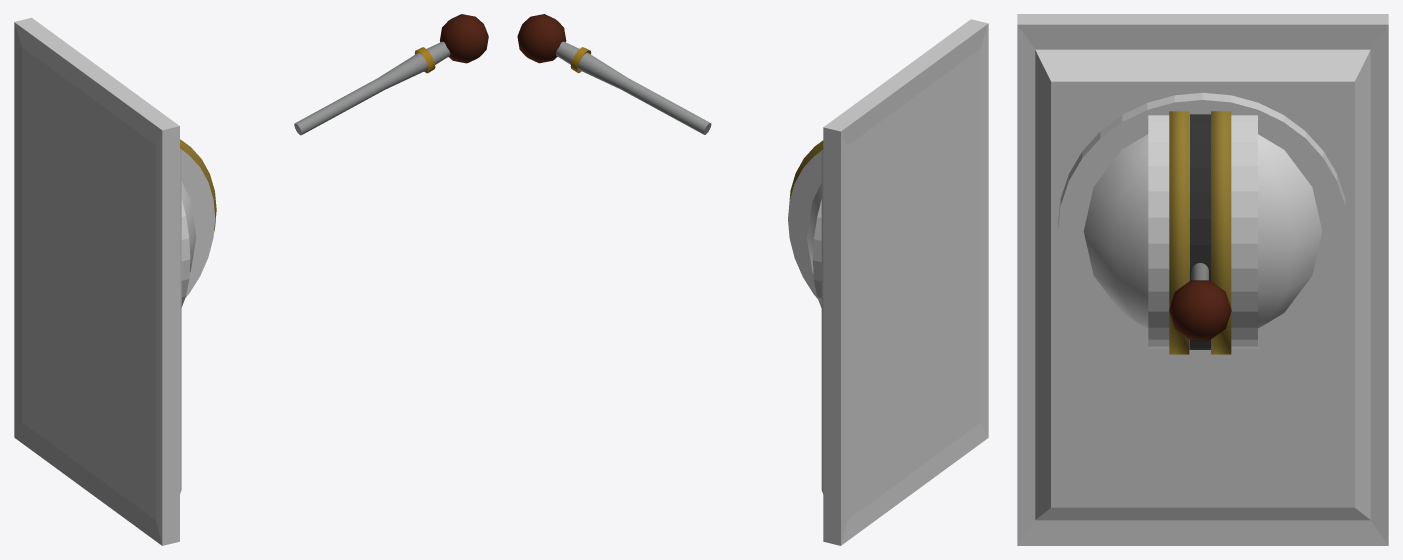
File: elevatorLeverAndWallMountFixed2.fbx
3 views of the same model, side by side, from view 1: azimuth 30°, elevation 25°; view 2: azimuth 150°, elevation 25°; view 3: azimuth 270°, elevation 25° (orthographic). The views are drawn at different scales.
Visible parts, largest first — view 1: elevatorWallMount, elevatorLever; view 2: elevatorWallMount, elevatorLever; view 3: elevatorWallMount, elevatorLever.
Boxes of the visible parts, <box> form: elevatorWallMount: <box>14,17,216,545</box>; elevatorLever: <box>294,14,488,135</box>; elevatorWallMount: <box>788,19,988,545</box>; elevatorLever: <box>517,14,711,134</box>; elevatorWallMount: <box>1017,14,1388,545</box>; elevatorLever: <box>1169,263,1231,340</box>.
Size of the model in its own units: 431 by 432 by 279.
